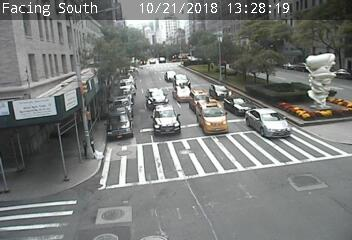car: (246, 109, 290, 137), (197, 99, 227, 134), (153, 105, 180, 136), (224, 96, 256, 116), (189, 90, 211, 114), (147, 88, 168, 111), (209, 84, 231, 99), (173, 86, 192, 102), (173, 74, 190, 89), (165, 71, 177, 82)
